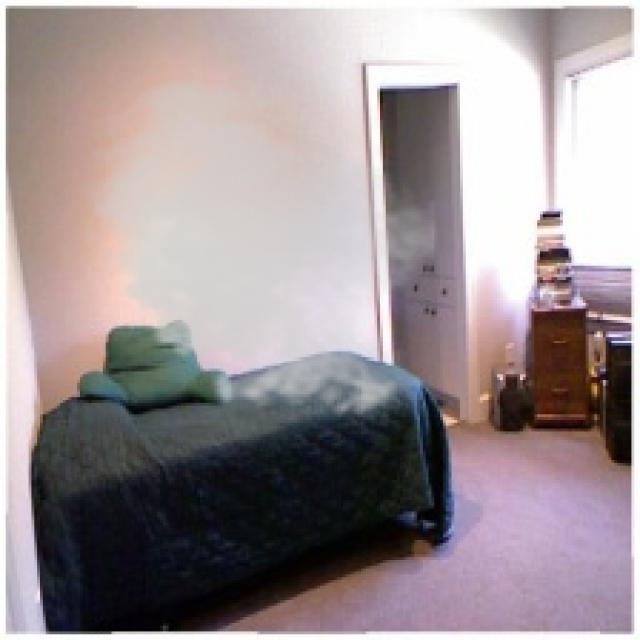Smoke: (74, 71, 440, 428)
